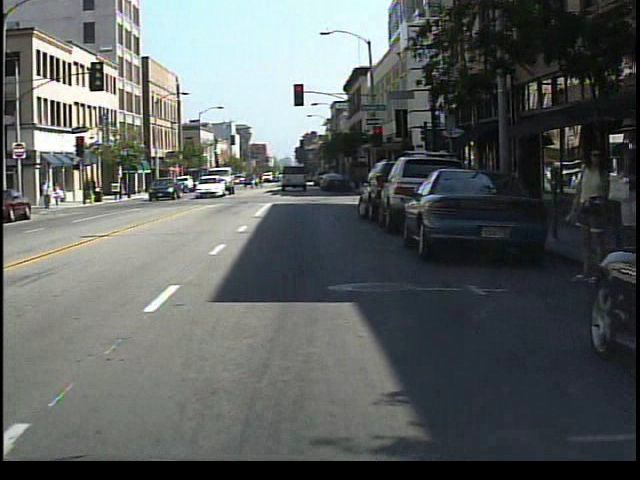person: (567, 141, 616, 294), (607, 113, 638, 284), (43, 179, 57, 213), (54, 182, 69, 210)
